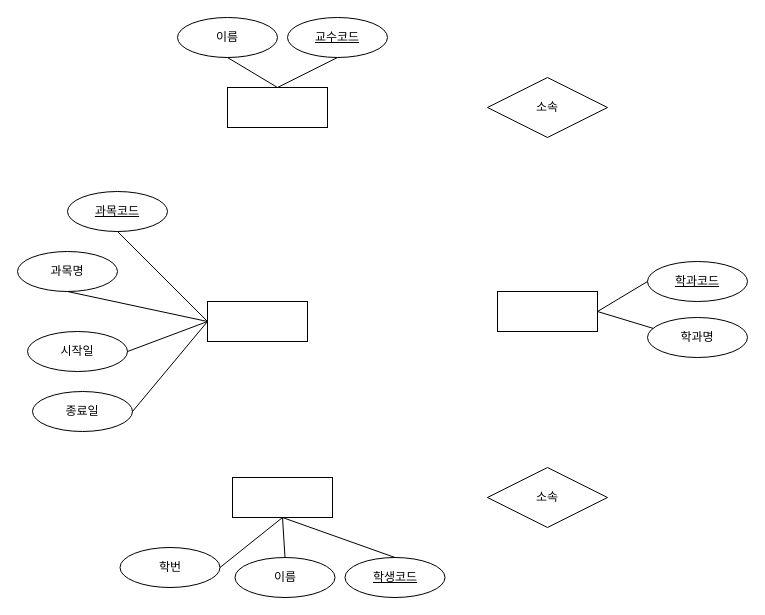
The diagram is 765 pixels wide and 615 high, and some of its shapes have lost their labels. The centre of each missing label's shape, as x and y in pixels:
"과목" goes at point (257, 321).
"교수" goes at point (277, 107).
"학과" goes at point (547, 311).
"학생" goes at point (282, 497).
